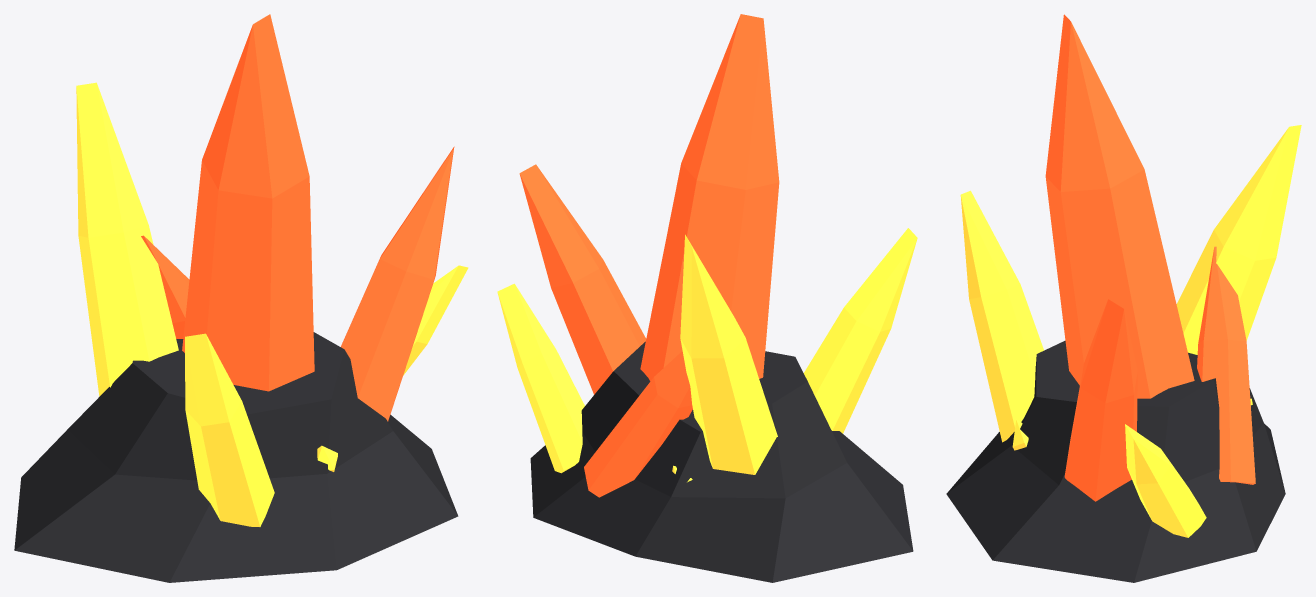
The model's file is PROP_20_EmberCrystalFormation.fbx.
3 renders of one model, left to right at view 1: azimuth 30°, elevation 25°; view 2: azimuth 150°, elevation 25°; view 3: azimuth 270°, elevation 25°, orthographic. The views are drawn at different scales.
Parts seen in each view (by area): view 1: PROP_20_EmberCrystalFormation; view 2: PROP_20_EmberCrystalFormation; view 3: PROP_20_EmberCrystalFormation.
Boxes of the visible parts, <box> form: PROP_20_EmberCrystalFormation: <box>14,14,468,582</box>; PROP_20_EmberCrystalFormation: <box>497,14,917,582</box>; PROP_20_EmberCrystalFormation: <box>946,14,1301,582</box>.
Size of the model in its own units: 245 by 262 by 179.
